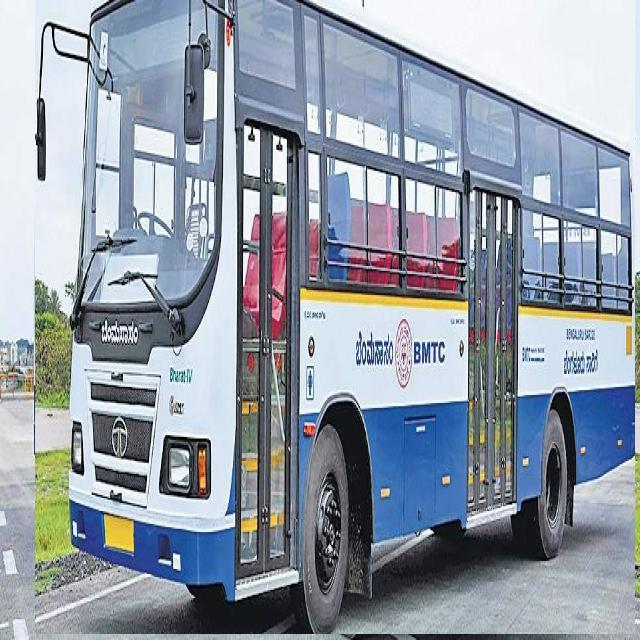bus: (35, 0, 635, 634)
